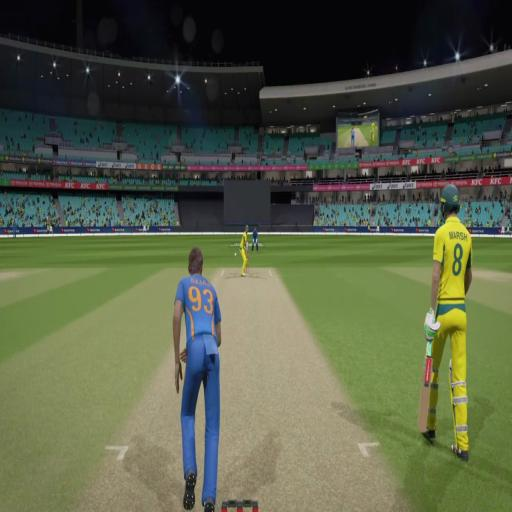ball: (234, 252, 236, 256)
